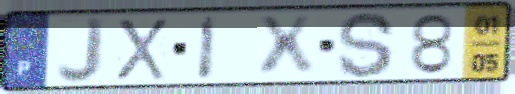8: (408, 11, 456, 76)
I: (195, 13, 220, 82)
J: (54, 15, 108, 86)
S: (335, 10, 398, 81)
X: (253, 13, 318, 81), (114, 16, 170, 82)
